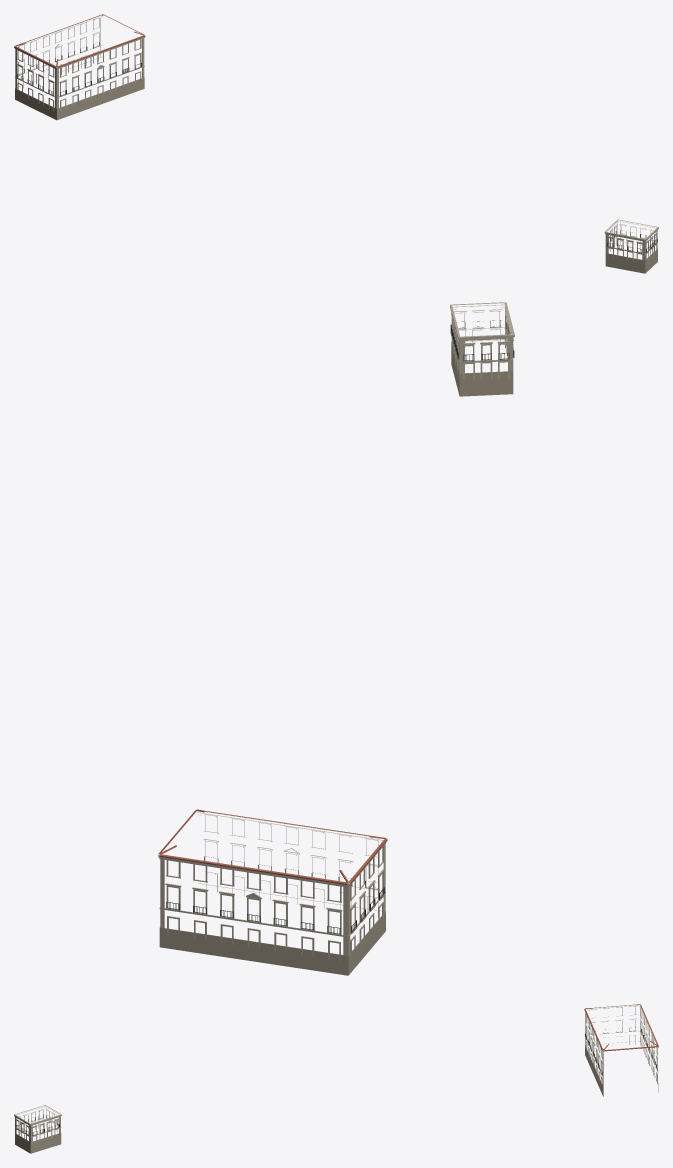
The picture shows the model from 3 angles, top to bottom: view 1: azimuth 30°, elevation 25°; view 2: azimuth 150°, elevation 25°; view 3: azimuth 270°, elevation 25°; orthographic projection. The views are drawn at different scales.
Visible parts, largest first — view 1: detail; view 2: detail; view 3: detail.
Part boxes in pixels (x1,y1,x2,y2): detail: (14,14,658,273); detail: (158,302,514,975); detail: (14,1004,658,1153).
Bounding box in the file's own units: 76.1 × 14.41 × 167.
